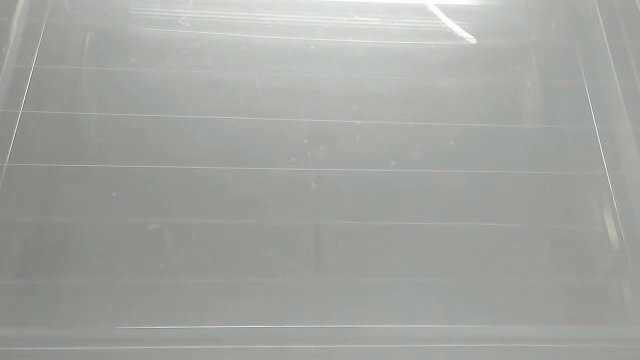alpha: (420, 1, 478, 47)
